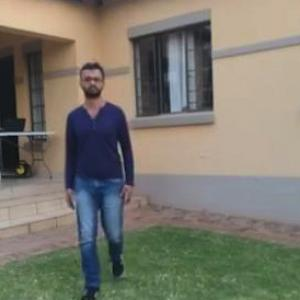follow: (63, 52, 140, 299)
